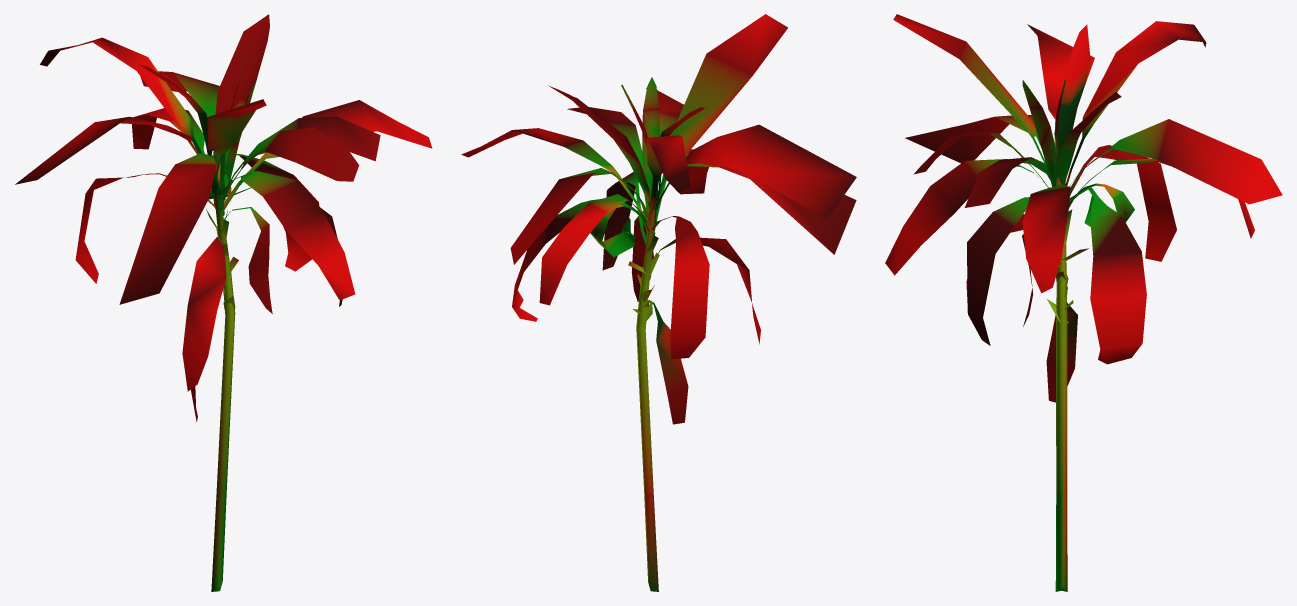
File: Var12_LOD2.fbx
3 renders of one model, left to right at view 1: azimuth 30°, elevation 25°; view 2: azimuth 150°, elevation 25°; view 3: azimuth 270°, elevation 25°, orthographic. The views are drawn at different scales.
Parts seen in each view (by area): view 1: _a841_Var12_LOD2; view 2: _a841_Var12_LOD2; view 3: _a841_Var12_LOD2.
Boxes of the visible parts, x1,y1,x2,y2 form: _a841_Var12_LOD2: [15, 14, 432, 591]; _a841_Var12_LOD2: [461, 14, 856, 591]; _a841_Var12_LOD2: [885, 14, 1282, 591].
Size of the model in its own units: 32.18 by 42.18 by 27.31.
